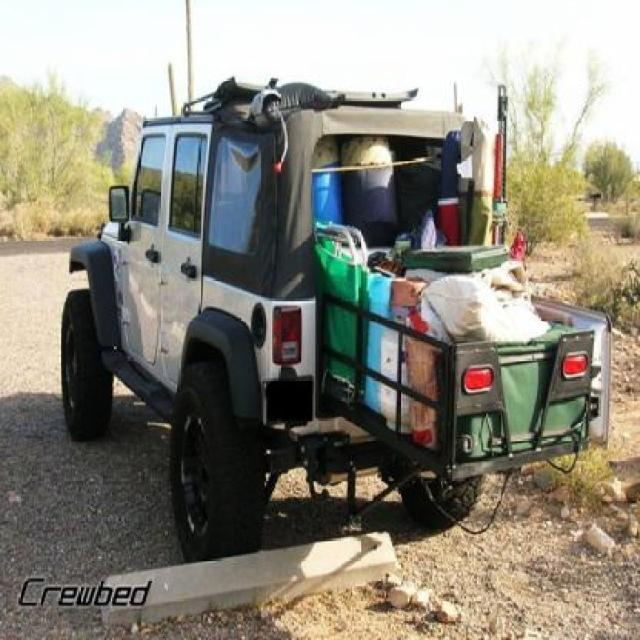Jeep: (52, 79, 507, 548)
